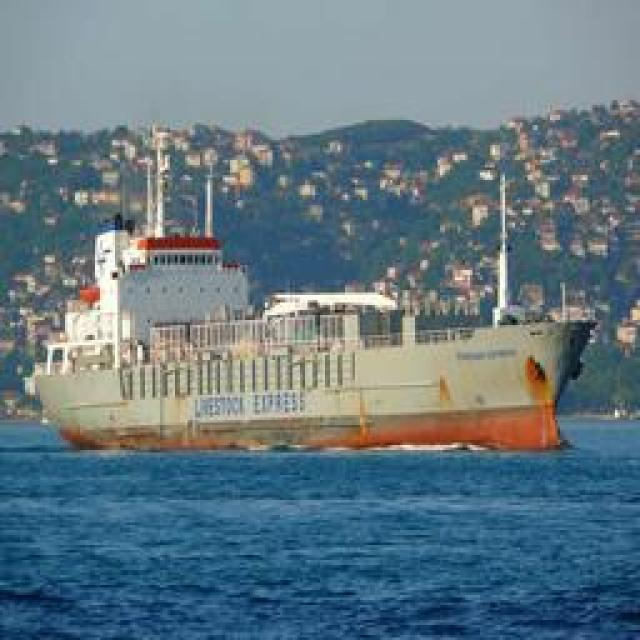CIV_Ship: (25, 211, 593, 454)
